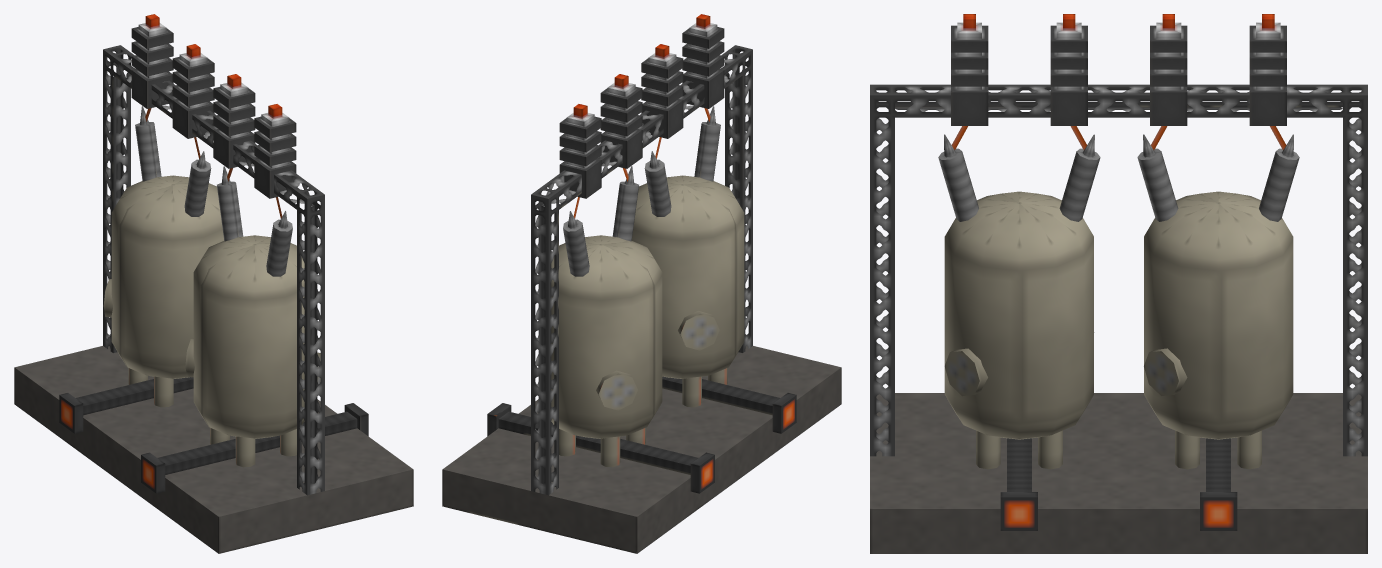
The model's file is substation.obj.
3 views of the same model, side by side, from view 1: azimuth 30°, elevation 25°; view 2: azimuth 150°, elevation 25°; view 3: azimuth 270°, elevation 25° (orthographic). The views are drawn at different scales.
Visible parts, largest first — view 1: Plane; view 2: Plane; view 3: Plane.
Part boxes in pixels (box(x1,y1,x2,y2)): Plane: box(14, 14, 413, 553); Plane: box(442, 14, 841, 553); Plane: box(870, 14, 1367, 553).
Bounding box in the file's own units: 3 × 5.31 × 5.
